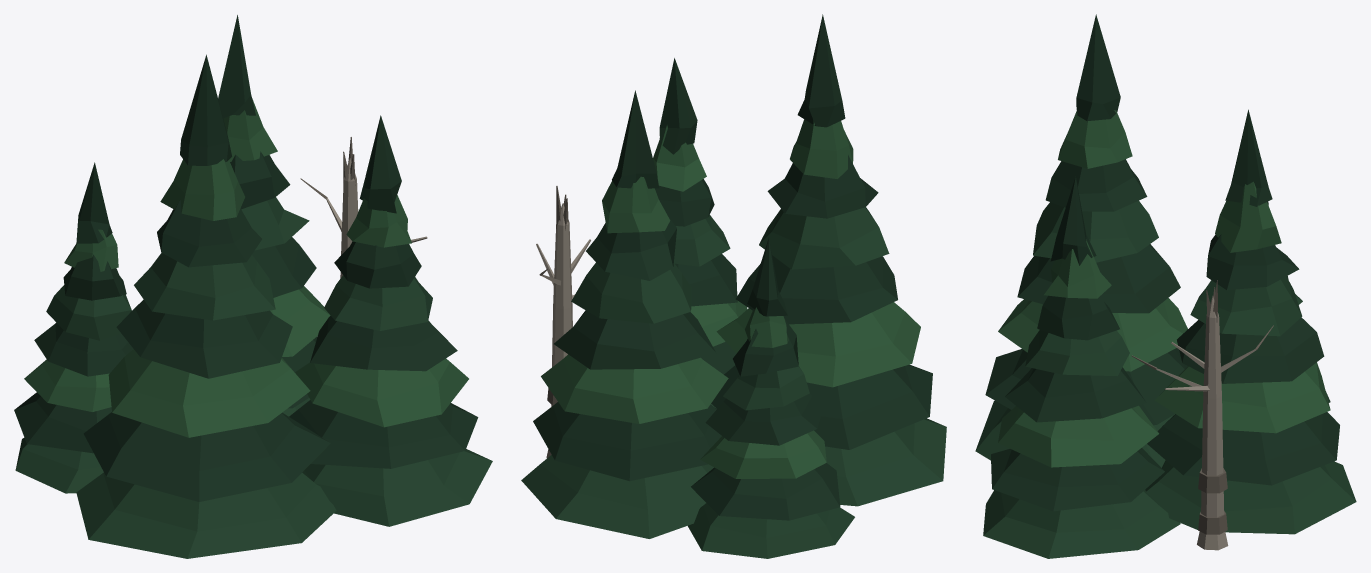
The model's file is forest_stand_c.glb.
The picture shows the model from 3 angles, left to right: view 1: azimuth 30°, elevation 25°; view 2: azimuth 150°, elevation 25°; view 3: azimuth 270°, elevation 25°; orthographic projection. The views are drawn at different scales.
Parts seen in each view (by area): view 1: forest_stand_c; view 2: forest_stand_c; view 3: forest_stand_c.
Part boxes in pixels (left/top/right/bottom): forest_stand_c: left=14, top=15, right=492, bottom=558; forest_stand_c: left=521, top=14, right=946, bottom=558; forest_stand_c: left=975, top=14, right=1356, bottom=558.
Size of the model in its own units: 8.18 by 9.47 by 7.51.
